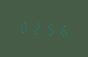five: (42, 19, 53, 37)
six: (54, 20, 65, 38)
two: (30, 18, 41, 36)
zero: (18, 17, 29, 35)
